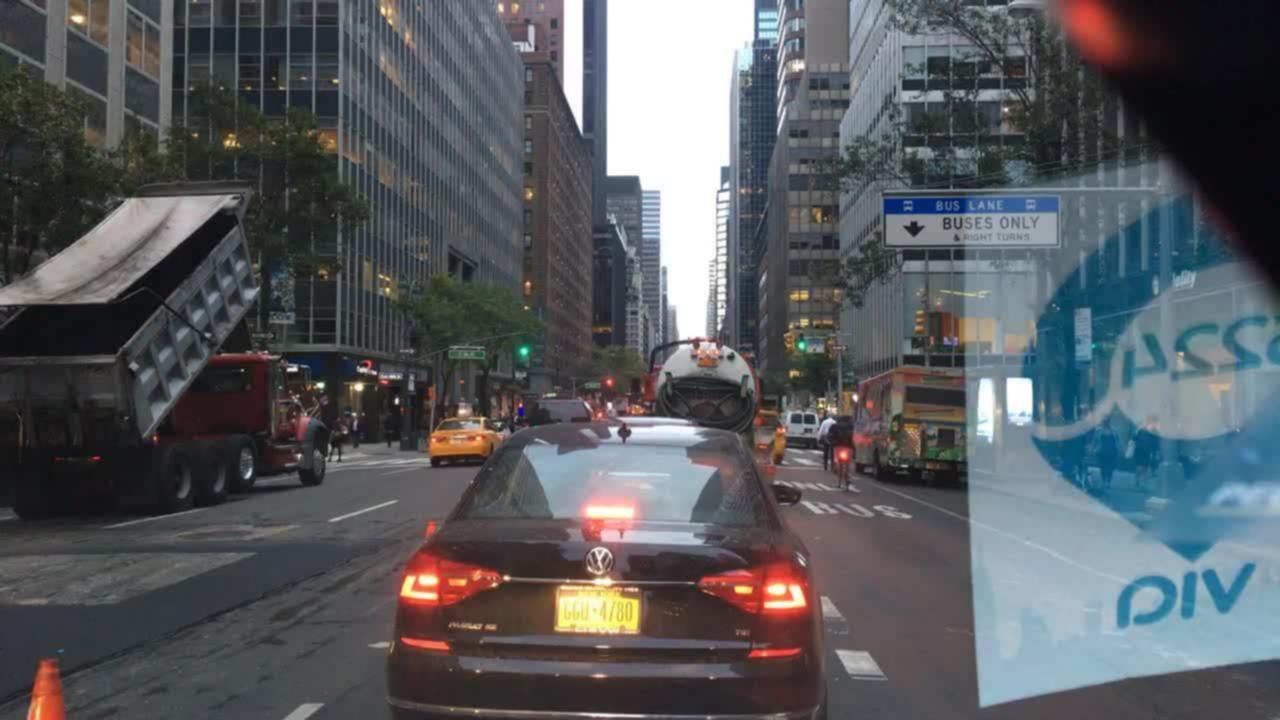Volkswagen: (577, 537, 621, 585)
